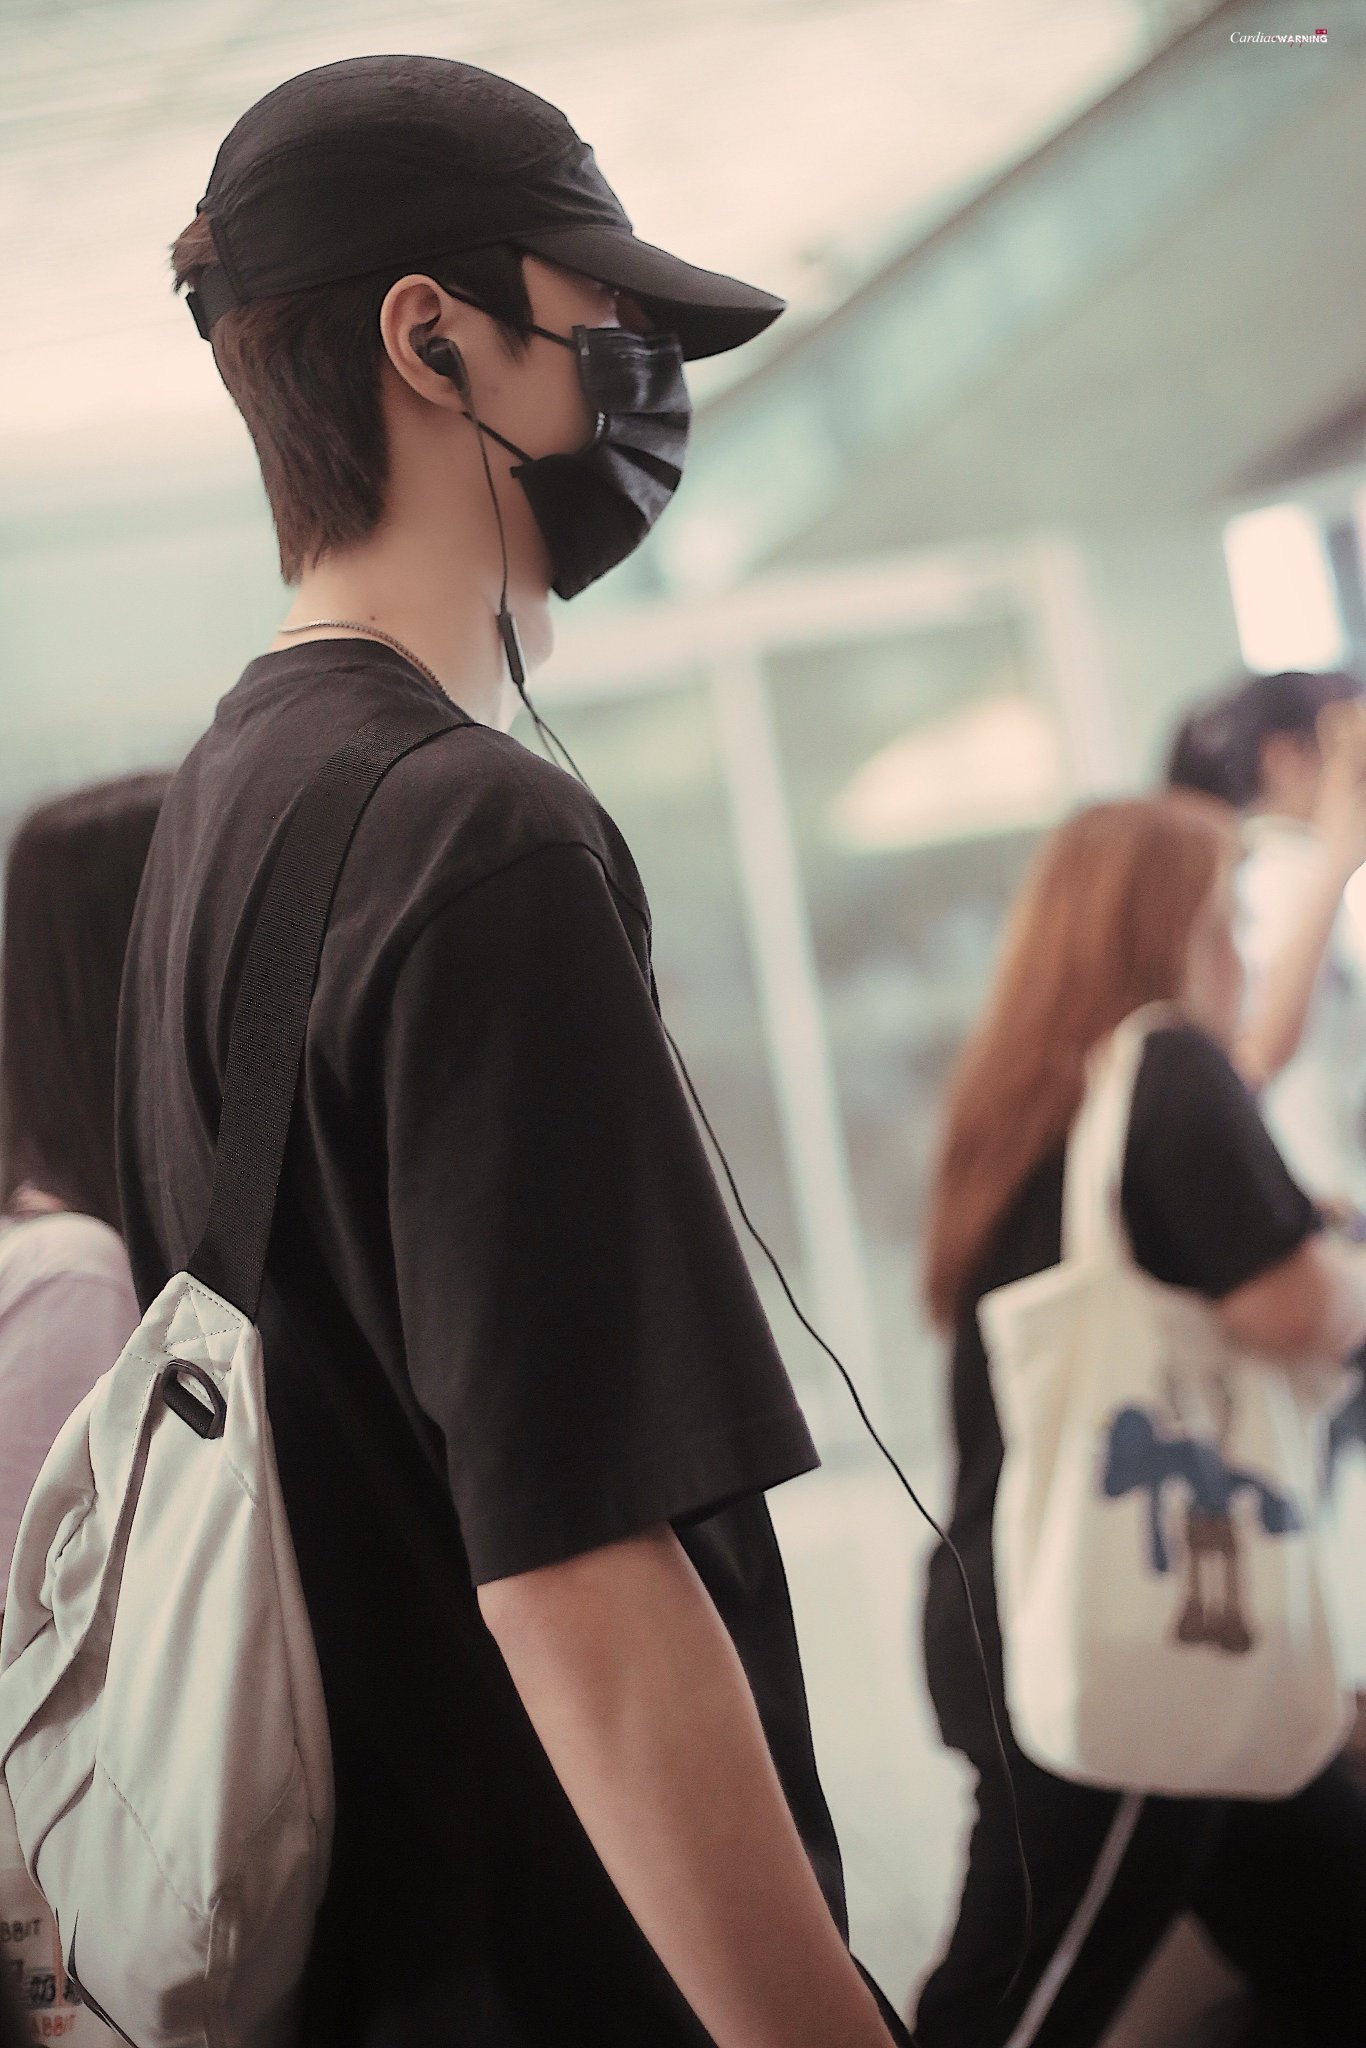bag: (965, 1002, 1362, 1817), (1, 1242, 350, 2042)
people: (122, 33, 906, 2048), (915, 783, 1366, 2014)
